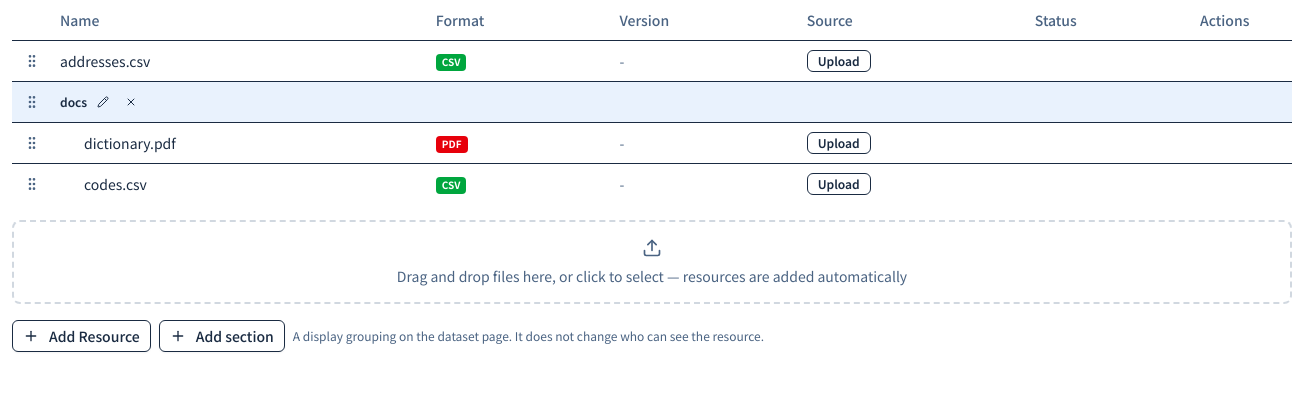
ResourceList sections › should drop a section that was never named on cancel
Click the button "Add section" at x=222, y=336, box [159,320,285,352]
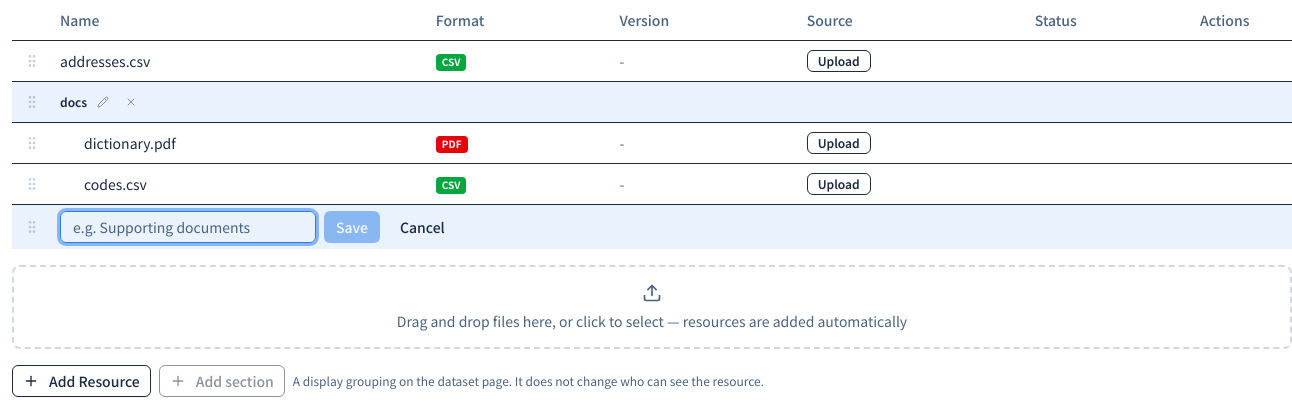
Click the button "Cancel" at x=422, y=226, box [388,210,457,242]
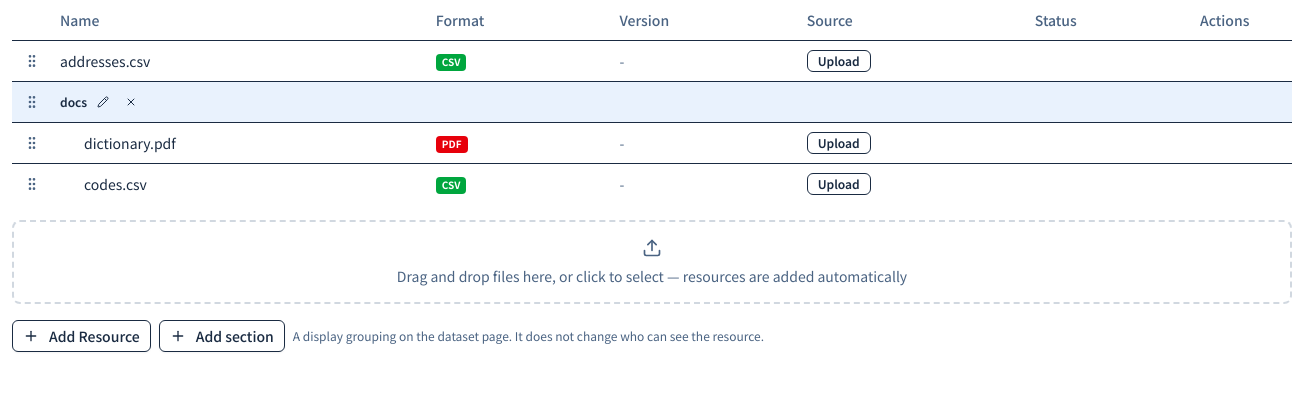
Expected: the button "Add section" is enabled, [159,320,285,352]
